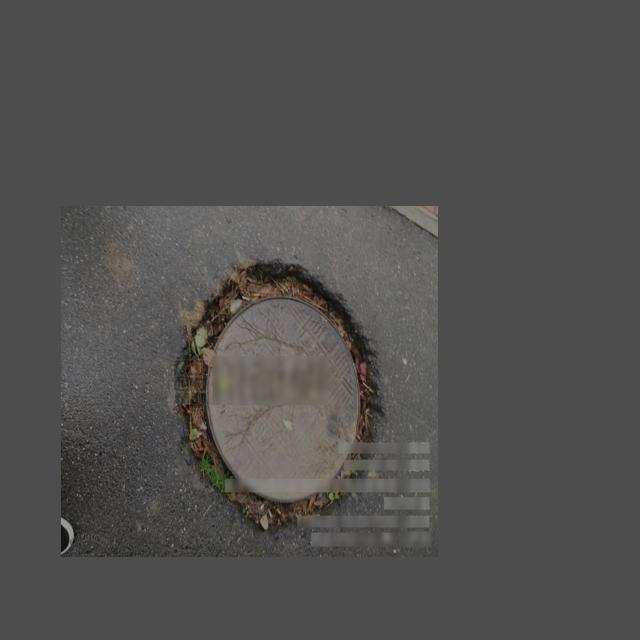circle: (175, 262, 386, 526)
